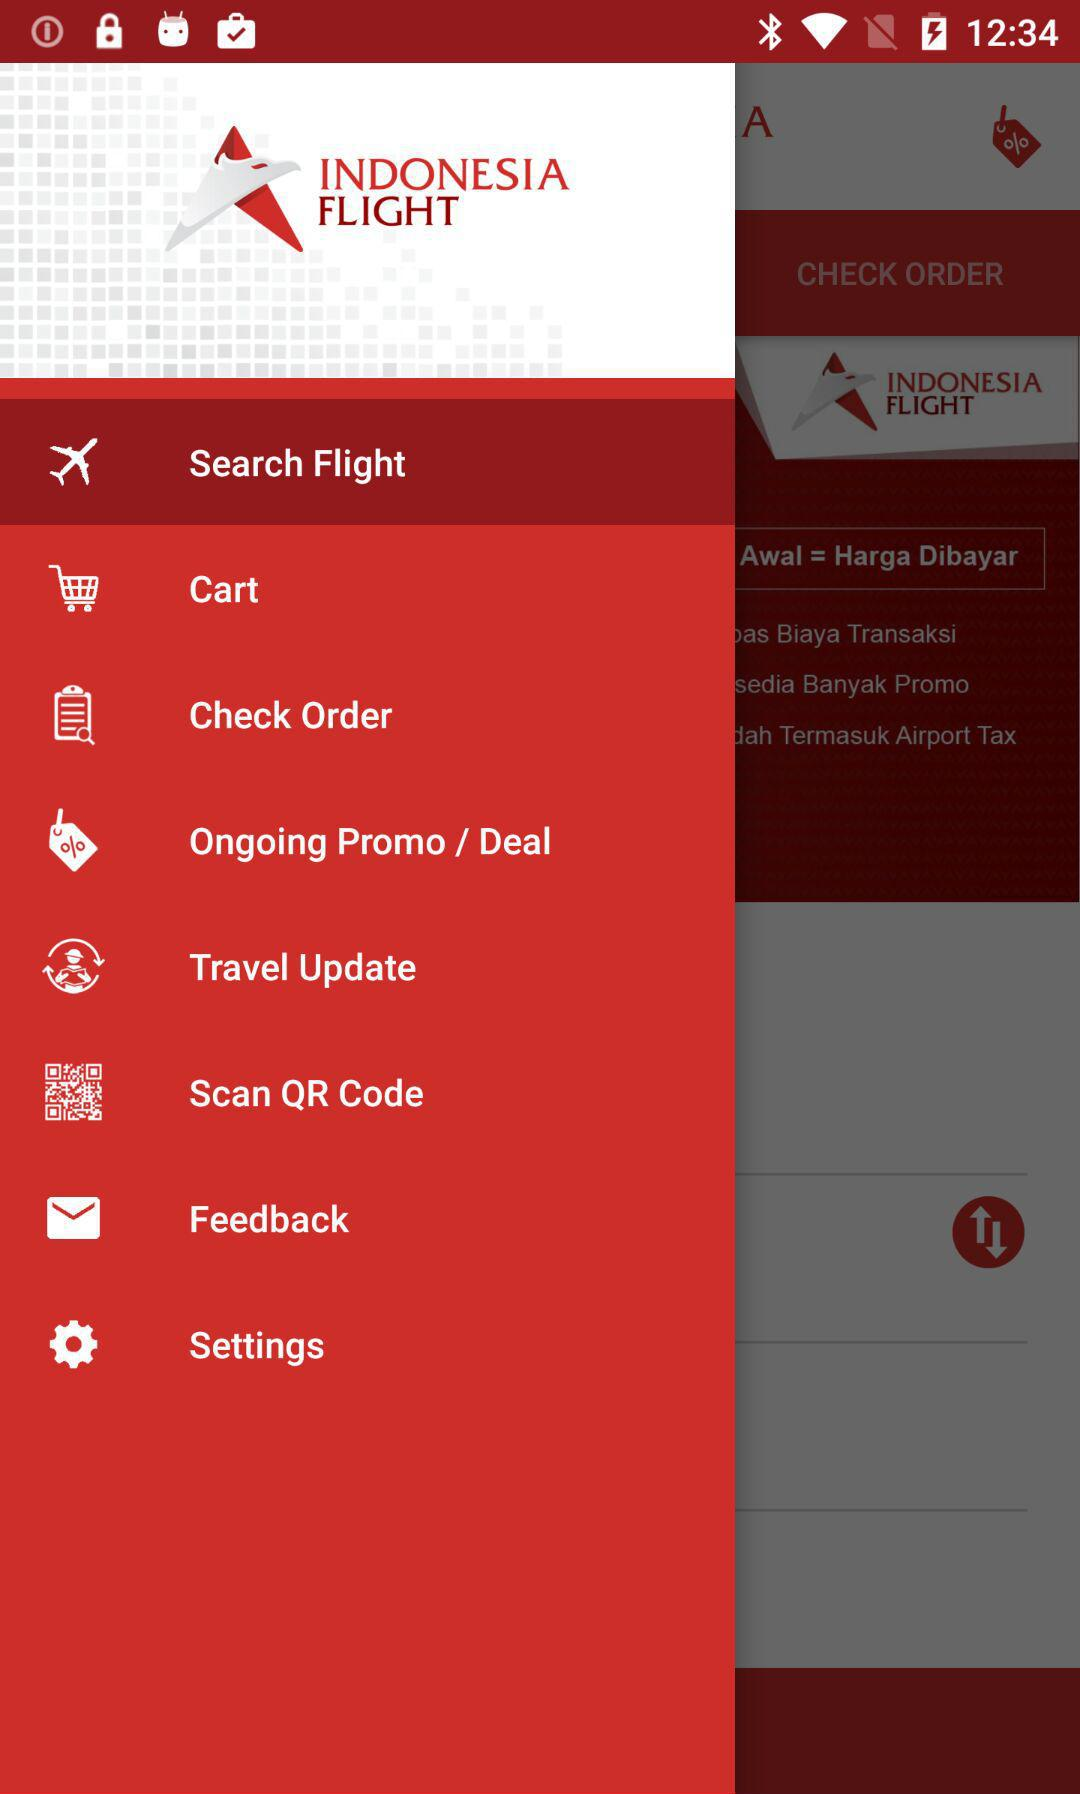Drawer: (1, 64, 735, 1794)
Icon: (49, 809, 100, 874), (54, 684, 97, 748), (47, 564, 101, 614), (49, 1319, 100, 1370), (47, 1196, 102, 1240)
Image: (163, 124, 571, 258), (42, 938, 108, 996), (44, 1062, 105, 1123), (49, 434, 97, 487)
Text: (190, 824, 552, 866), (188, 951, 418, 991), (190, 1076, 427, 1114), (190, 447, 407, 487), (190, 698, 395, 732), (190, 1202, 351, 1237), (191, 1328, 325, 1369), (190, 575, 261, 605)
UpperTaskBar: (1, 1, 1080, 64)
